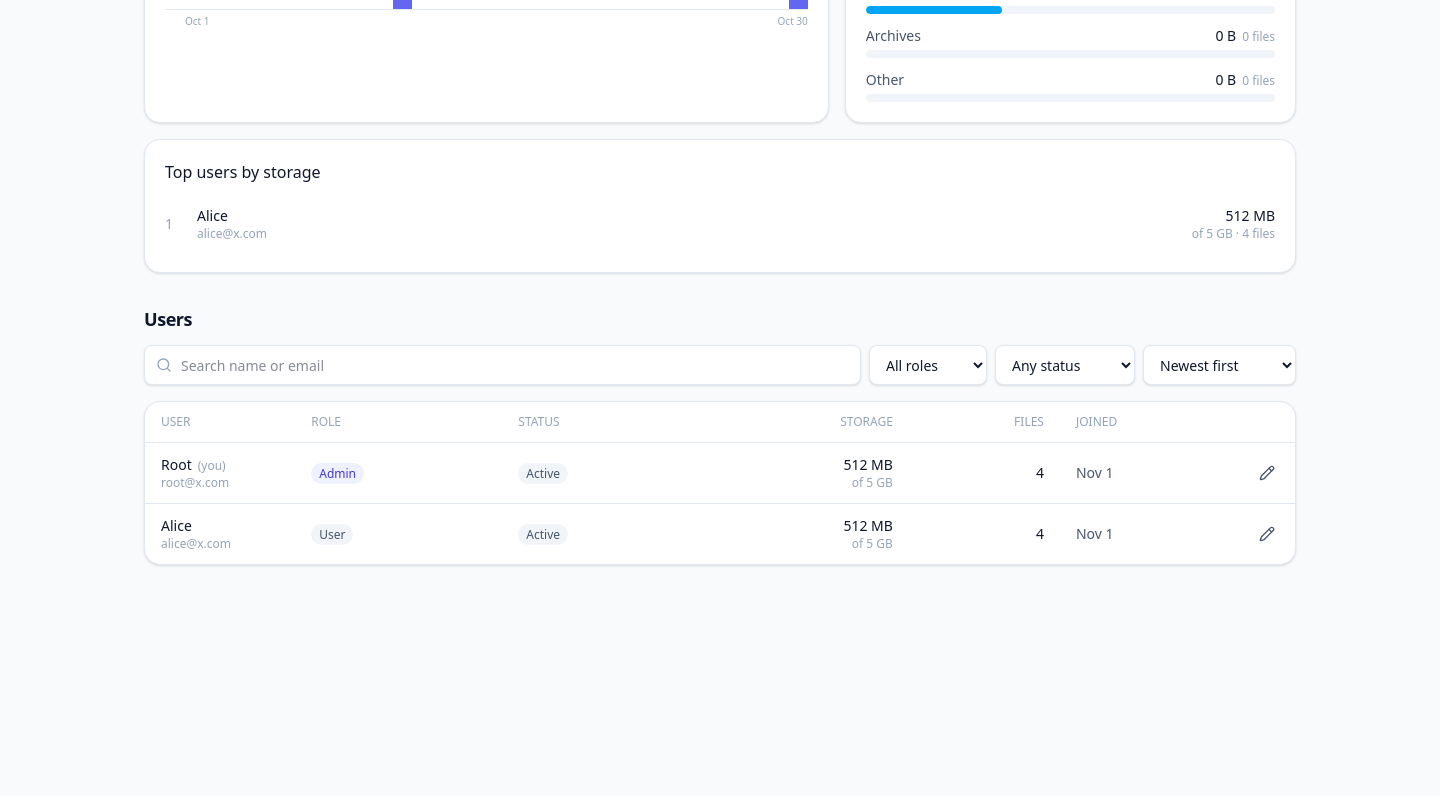
Scenario: editing a user › admins editing themselves can change only their limit
This screenshot has width=1440, height=796.
(page scrolled)
Click the button named "Edit Root" at (1267, 473), box [1247,457,1287,489]
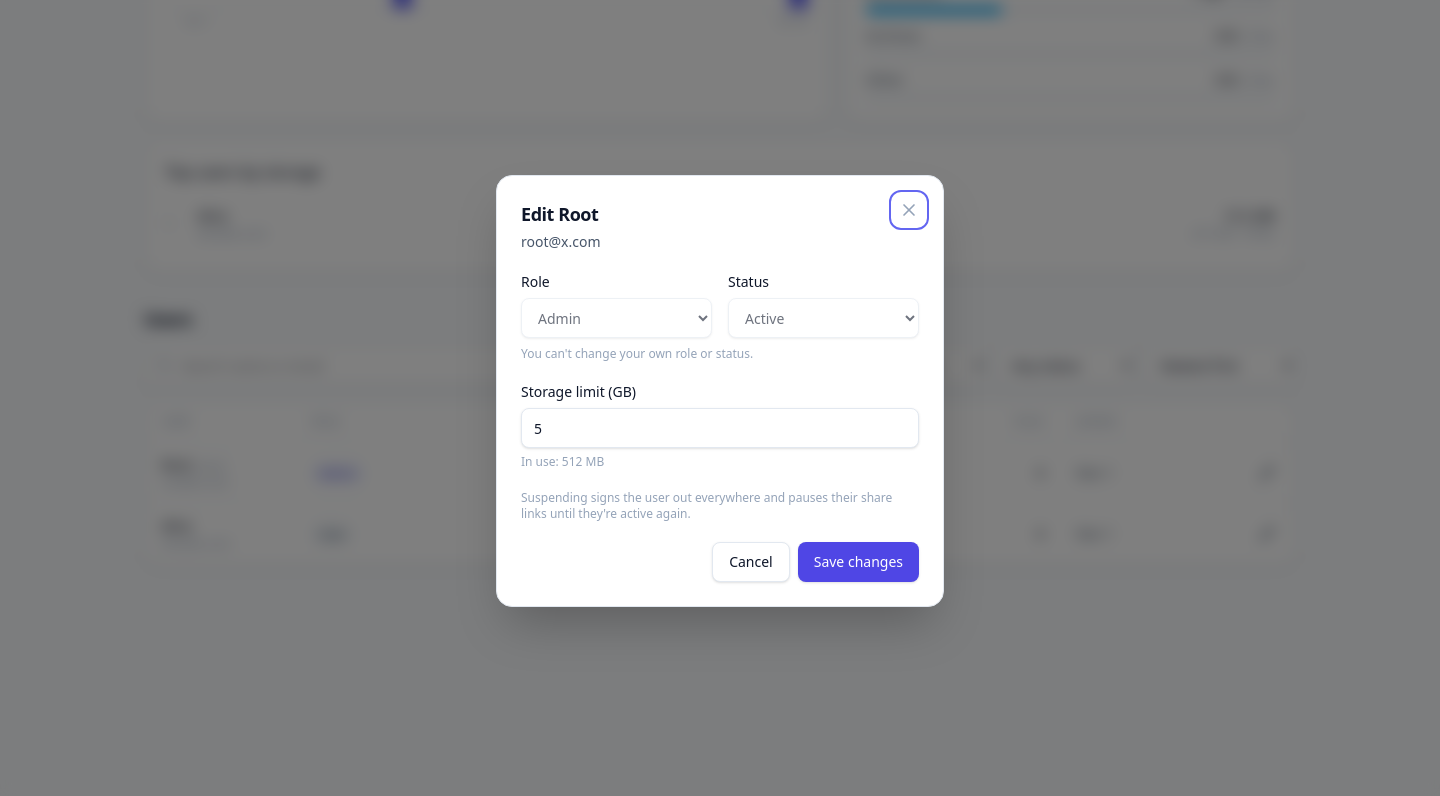
Replace the text in the number field labelled "Storage limit (GB)" with "10" at (720, 428), box [521,408,919,448]
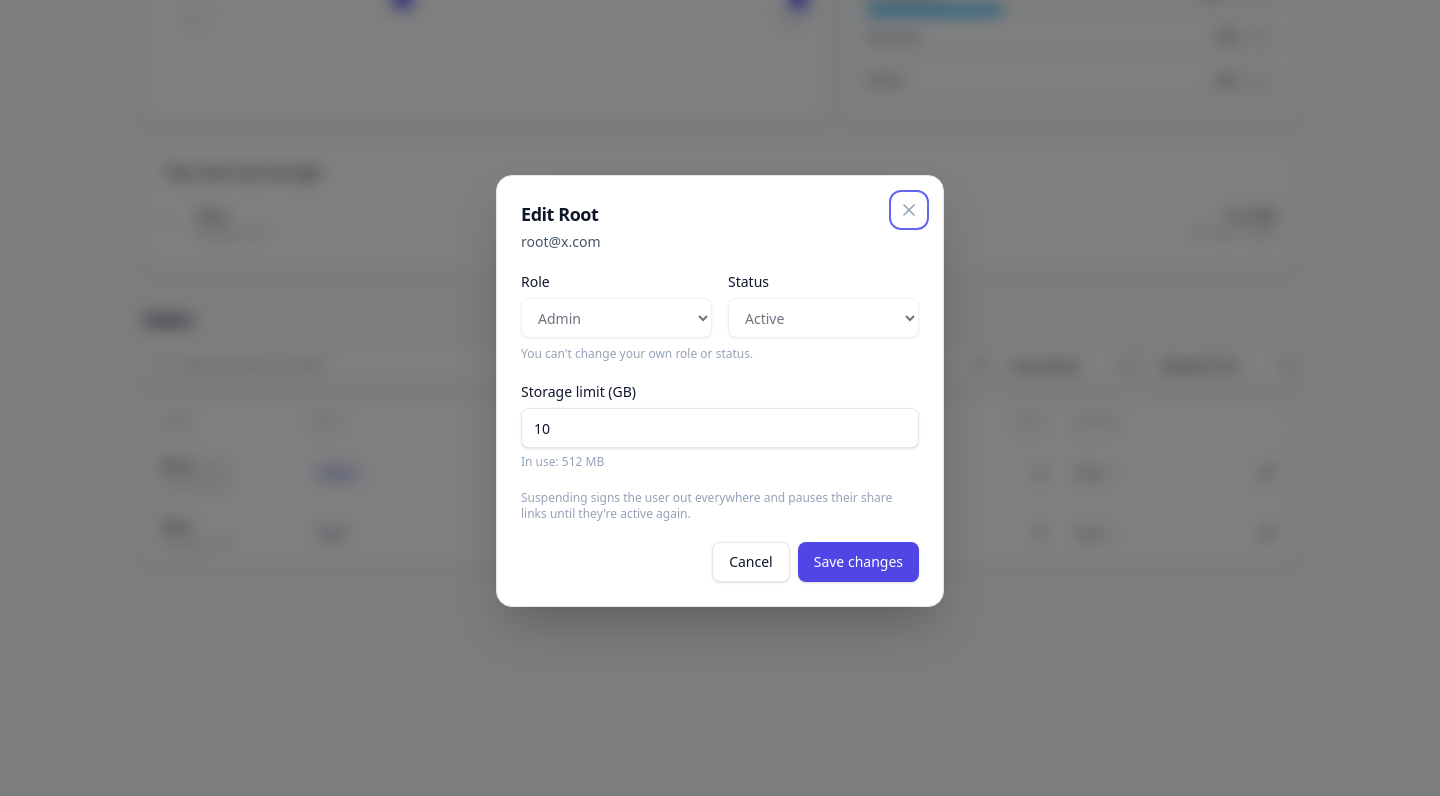
Click the button "Save changes" at (858, 562), box [798,542,919,582]
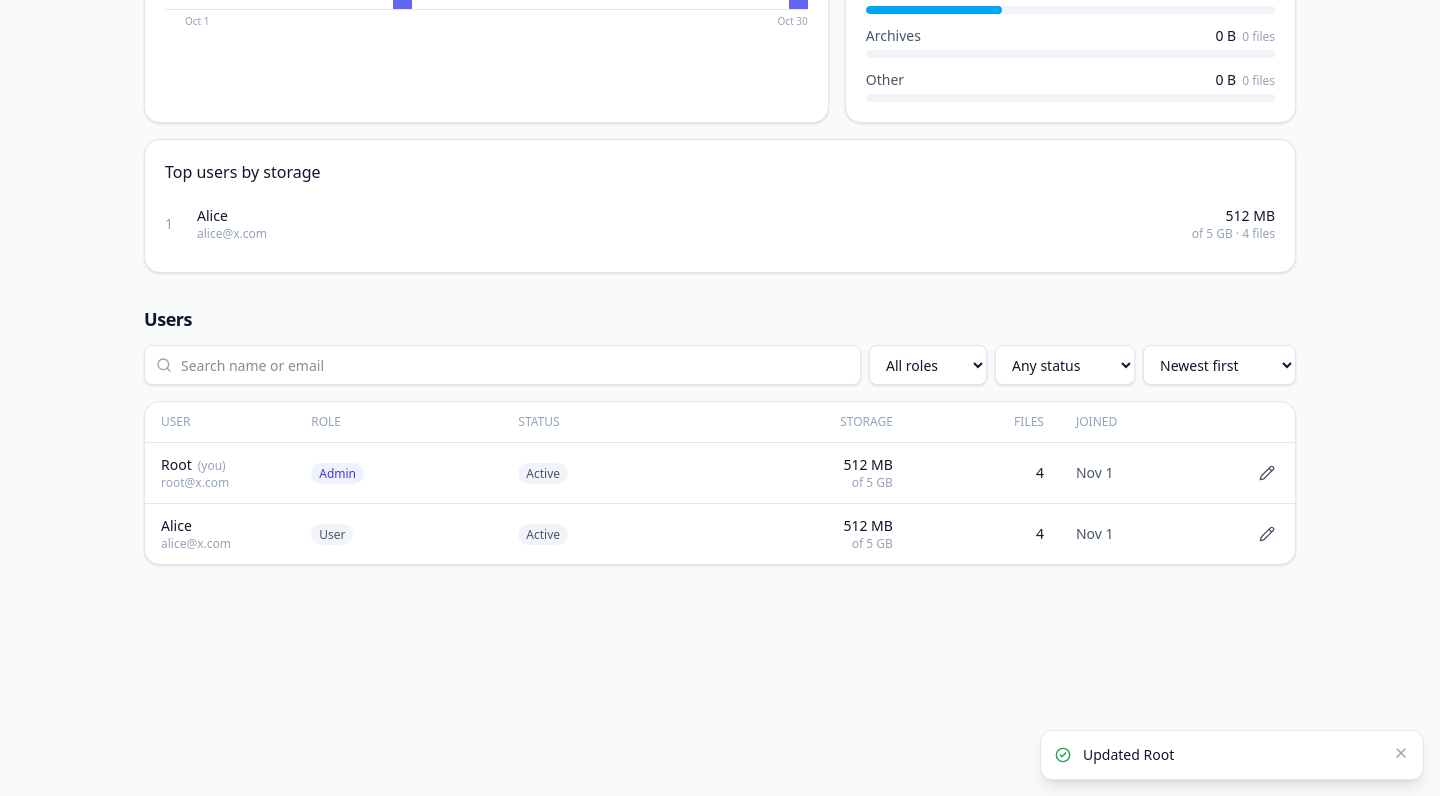
Expected: the text "Updated Root" is shown, [1083,745,1174,764]
